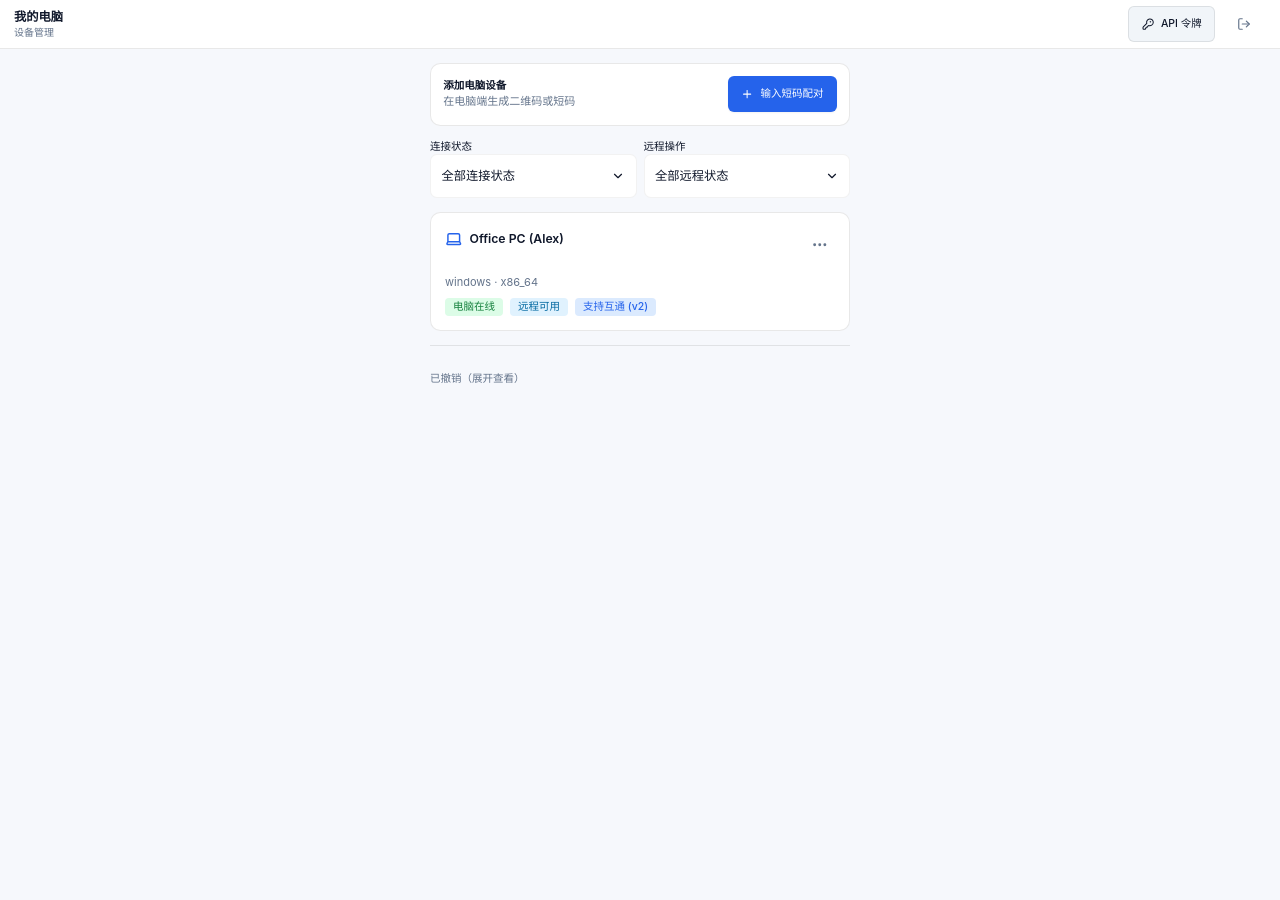
D50 devices and suspension › requests revoked history only on expansion and deletes it only after confirmation
Click the button "已撤销（展开查看）": x=477, y=379 [430,357,524,401]
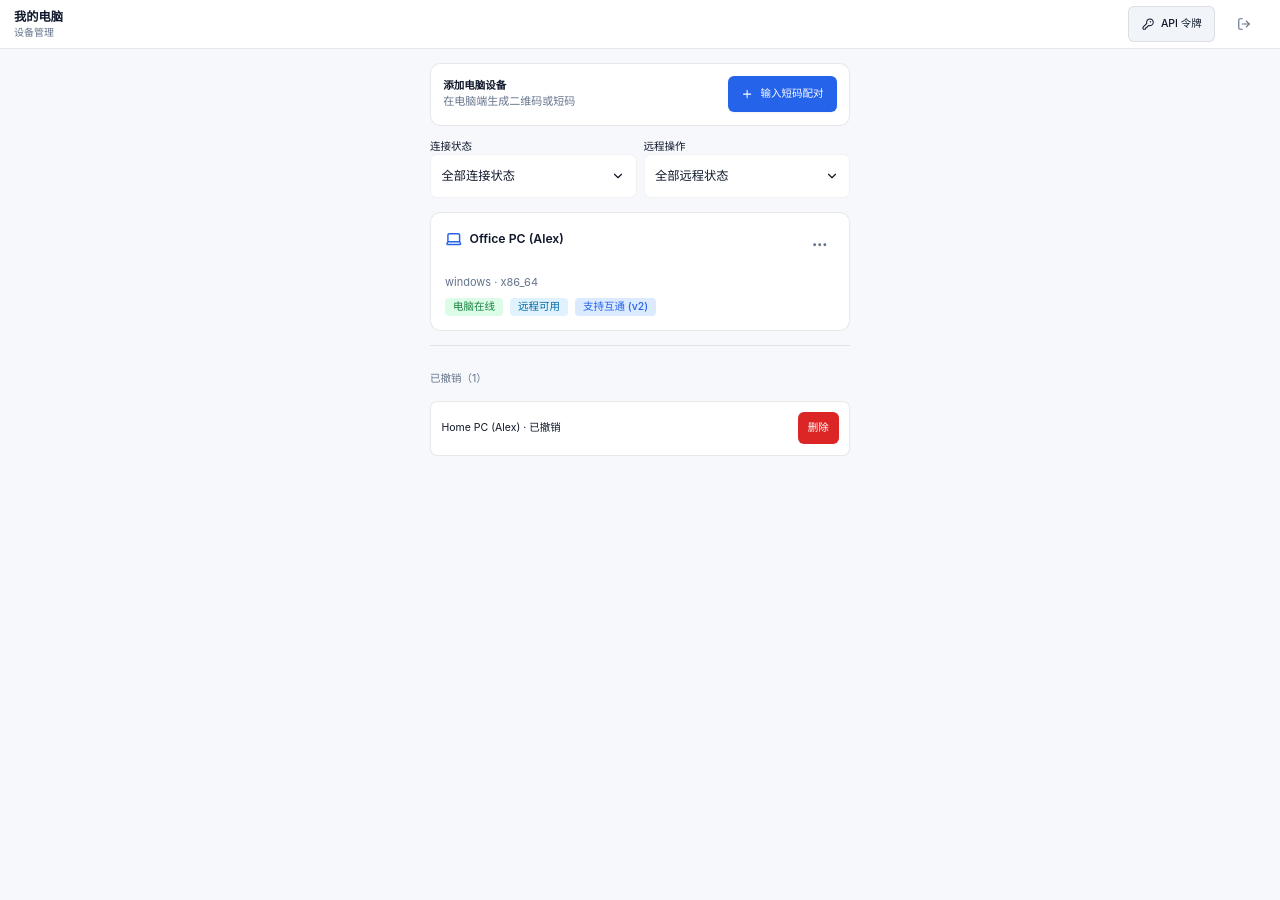
Click the button "删除": x=818, y=428 [798,412,838,444]
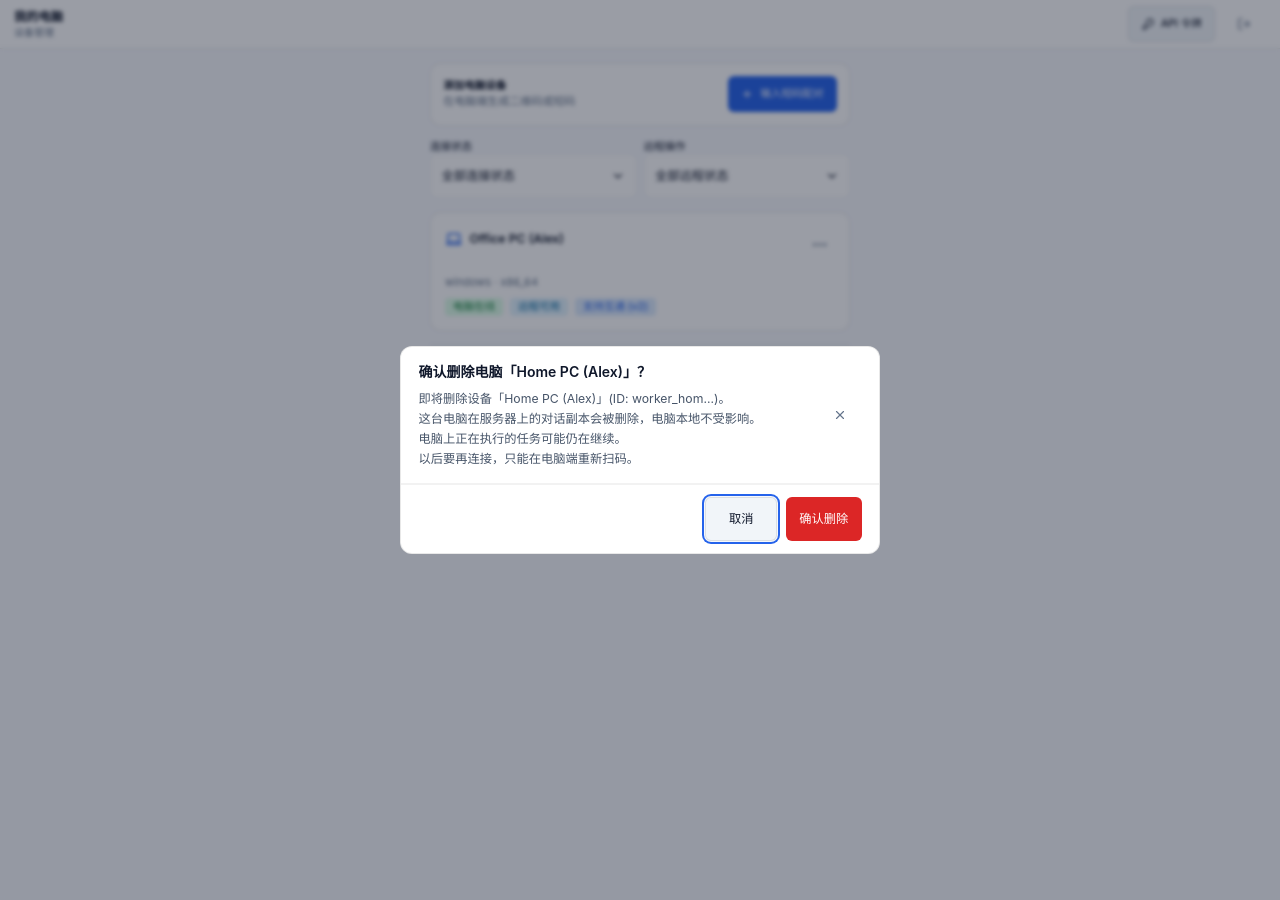
Check: the text "电脑本地不受影响" is shown, box [418,391,762,466]
Click the button "确认删除": x=824, y=519 [786,497,862,541]
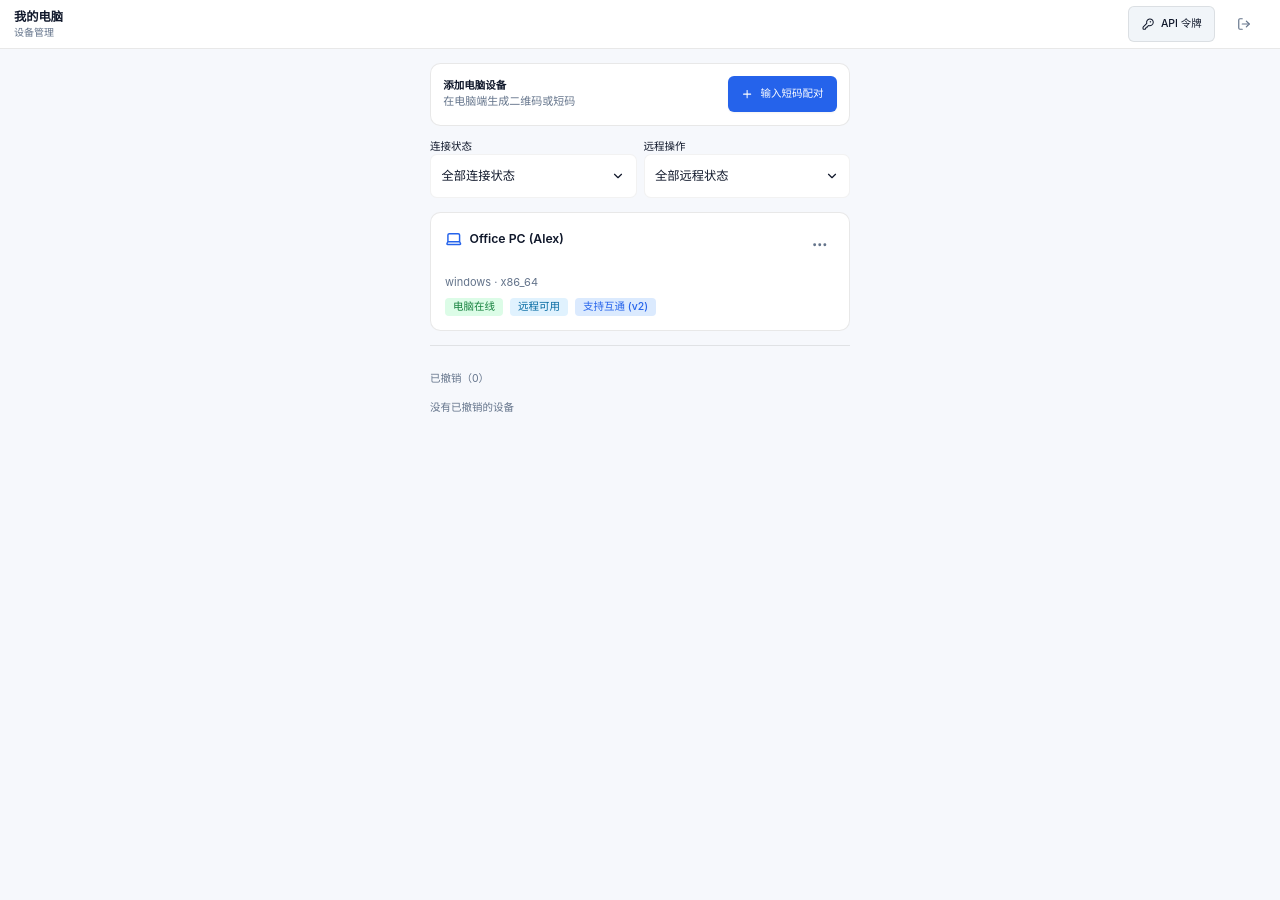
Check: the text "Home PC" is gone
Check: the text "已撤销（0）" is shown, box [430,357,489,401]
